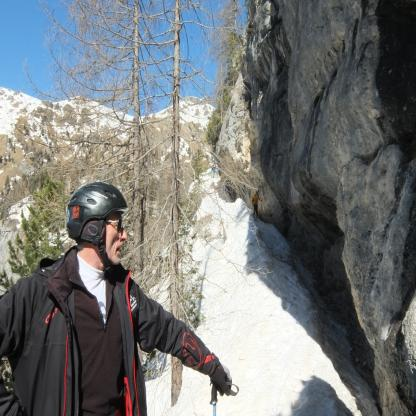Helmet: (65, 182, 125, 274)
